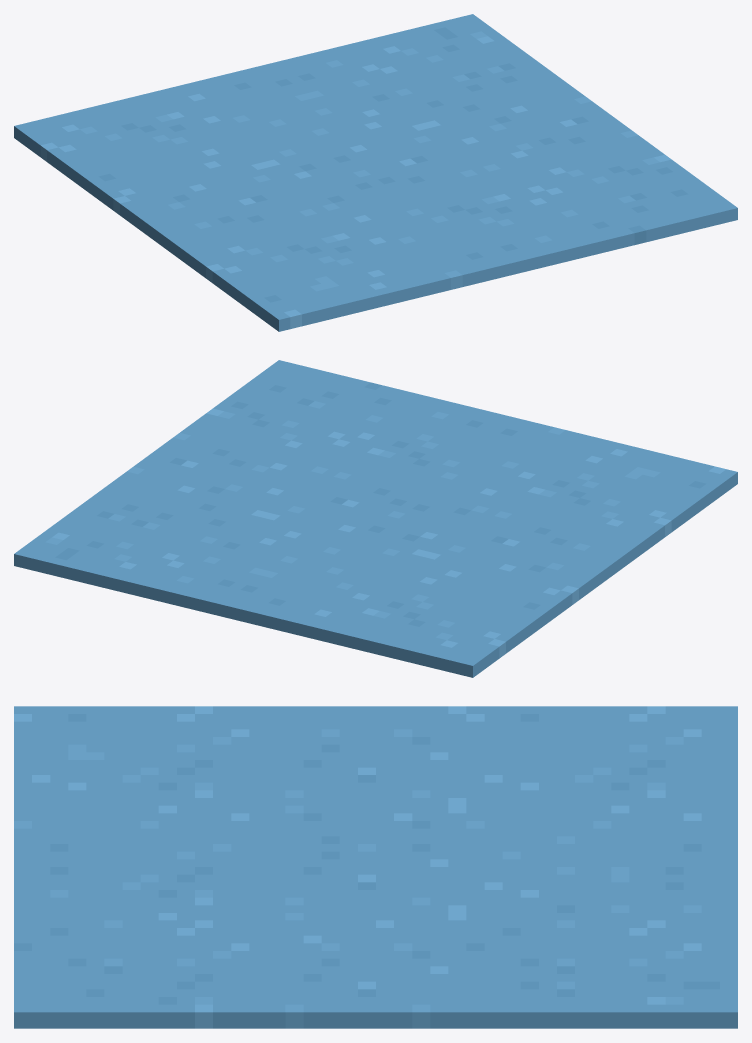
The model's file is tile_water.fbx.
3 renders of one model, top to bottom at view 1: azimuth 30°, elevation 25°; view 2: azimuth 150°, elevation 25°; view 3: azimuth 270°, elevation 25°, orthographic. The views are drawn at different scales.
Parts seen in each view (by area): view 1: tile_water; view 2: tile_water; view 3: tile_water.
Part boxes in pixels (x1,y1,x2,y2): tile_water: [14, 14, 737, 331]; tile_water: [14, 360, 737, 677]; tile_water: [14, 706, 737, 1028].
Size of the model in its own units: 400 by 400 by 10.
